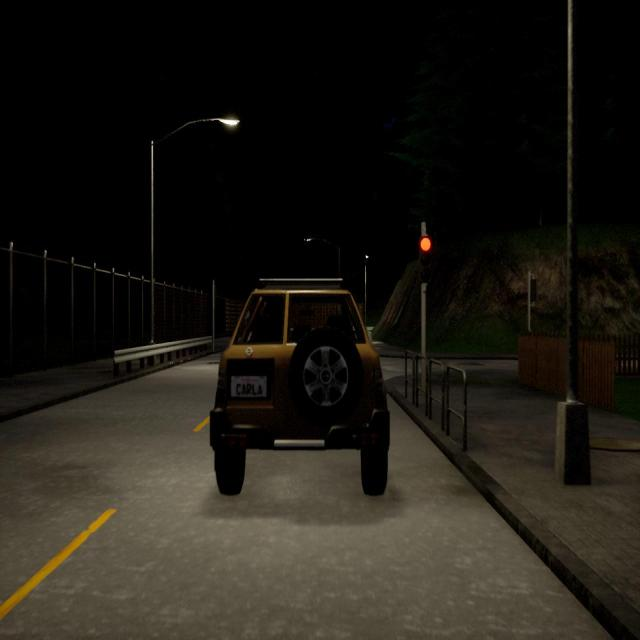Traffic_Signs: (240, 309, 250, 320)
Vehicle: (209, 279, 390, 495)
traffic_light: (420, 237, 434, 282), (530, 279, 538, 301)
